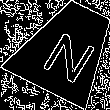N_NE: (34, 17, 99, 81)
